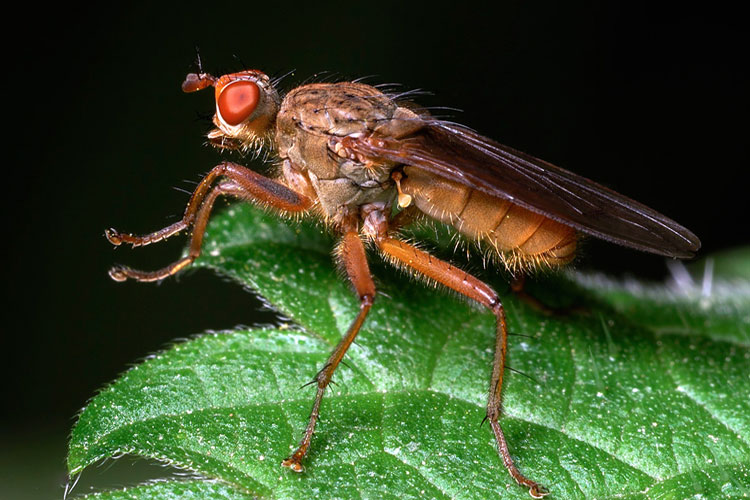Fruit Flies: (101, 36, 708, 500)
